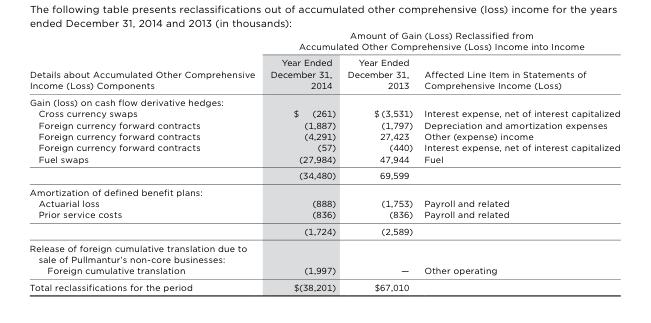table: (28, 28, 619, 292)
table column: (28, 28, 262, 292), (417, 28, 619, 292), (262, 28, 340, 292), (340, 28, 417, 292)
table column header: (28, 28, 619, 93)
table projected row header: (28, 239, 619, 264), (28, 93, 619, 107), (28, 183, 619, 197)
table row: (28, 53, 619, 93), (28, 28, 619, 53), (28, 239, 619, 264), (28, 166, 619, 183), (28, 222, 619, 239), (28, 93, 619, 107), (28, 152, 619, 166), (28, 183, 619, 197), (28, 208, 619, 222), (28, 264, 619, 278), (28, 278, 619, 292), (28, 129, 619, 141), (28, 107, 619, 118), (28, 118, 619, 129), (28, 141, 619, 152), (28, 197, 619, 208)
table spanning cell: (28, 28, 262, 93), (262, 28, 619, 53)
